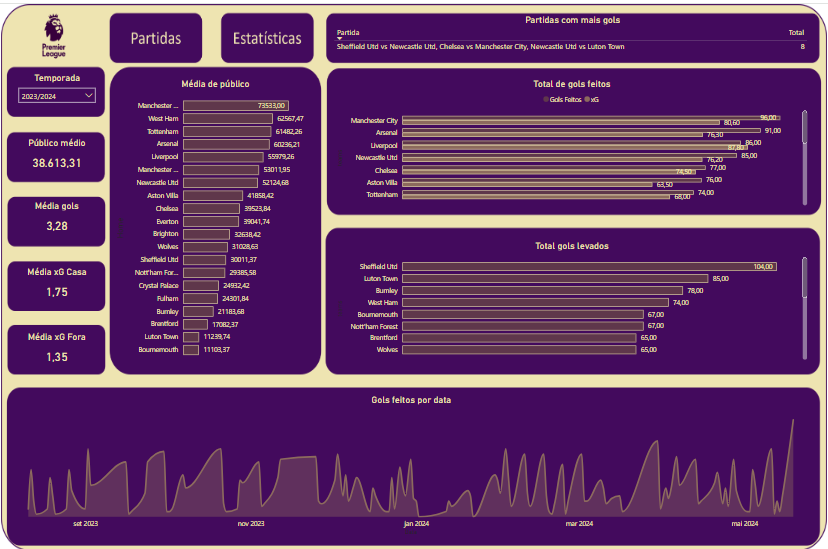

What the dashboard file says about the page in this screenshot:
{"tool":"powerbi","page":{"name":"Partidas","canvas":[1510,1000],"ordinal":0},"visuals":[{"type":"slicer","title":"Temporada","fields":{"Values":["seasons.seasons"]},"box":[21.8,124.3,161.3,73.9],"z":0},{"type":"barChart","title":"Média de público","fields":{"Category":["matches.Home"],"Y":["Avg(matches.Attendance)"]},"box":[204.1,134.8,374.5,521.2],"z":1000},{"type":"card","title":"Público médio","fields":{"Values":["Avg(matches.Attendance)"]},"box":[21.8,243.7,160.5,73.3],"z":2000},{"type":"card","title":"Média gols","fields":{"Values":["Avg(matches.total_goals)"]},"box":[21.8,358.7,160.5,75.3],"z":3000},{"type":"card","title":"Média xG Casa","fields":{"Values":["Avg(matches.xG_home)"]},"box":[21.8,479.6,160.5,73.3],"z":4000},{"type":"card","title":"Média xG Fora","fields":{"Values":["Avg(matches.xG_away)"]},"box":[21.8,598.5,160.5,73.3],"z":5000},{"type":"tableEx","title":"Partidas com mais gols","fields":{"Values":["medidas.mais_gols","medidas.mais_gols1"]},"box":[602.4,17.8,883.8,77.3],"z":6000},{"type":"clusteredBarChart","title":"Total de gols feitos","fields":{"Category":["teams.teams"],"Y":["medidas.total_gols_feitos_home_away","medidas.xg_home_away"]},"box":[608.4,134.8,869.9,237.8],"z":7000},{"type":"barChart","title":"Total gols levados","fields":{"Category":["teams.teams"],"Y":["medidas.total_gols_levados_home_away"]},"box":[608.4,432,869.9,223.9],"z":8000},{"type":"areaChart","title":"Gols feitos por data","fields":{"Category":["matches.Date"],"Y":["medidas.total_gols_feitos_home_away_por_data"]},"box":[21.8,713.4,1456.5,263.6],"z":9000},{"type":"actionButton","box":[182.3,17.8,192.2,91.2],"z":9001},{"type":"actionButton","box":[392.4,17.8,186.3,91.2],"z":9002}]}

Visuals, with their boxes in screenshot pixels (x1, y1, x2, y2), scaled from the page's 1510x1000 canvas onto the 828x549 screenshot:
"Temporada" slicer: rect(12, 68, 100, 109)
"Média de público" barChart: rect(112, 74, 317, 360)
"Público médio" card: rect(12, 134, 100, 174)
"Média gols" card: rect(12, 197, 100, 238)
"Média xG Casa" card: rect(12, 263, 100, 304)
"Média xG Fora" card: rect(12, 329, 100, 369)
"Partidas com mais gols" tableEx: rect(330, 10, 815, 52)
"Total de gols feitos" clusteredBarChart: rect(334, 74, 811, 205)
"Total gols levados" barChart: rect(334, 237, 811, 360)
"Gols feitos por data" areaChart: rect(12, 392, 811, 536)
actionButton: rect(100, 10, 205, 60)
actionButton: rect(215, 10, 317, 60)
